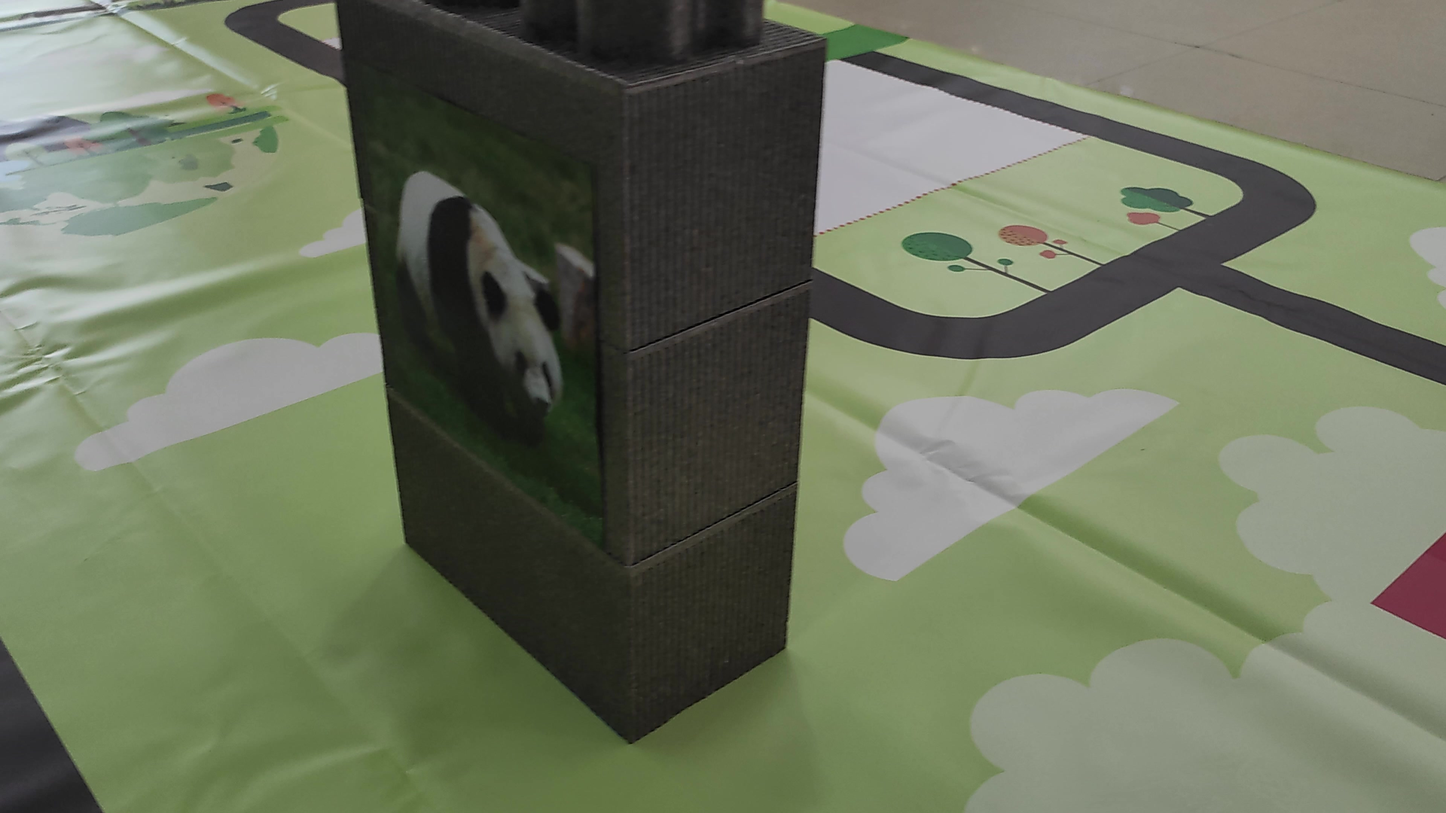panda: (383, 163, 584, 458)
